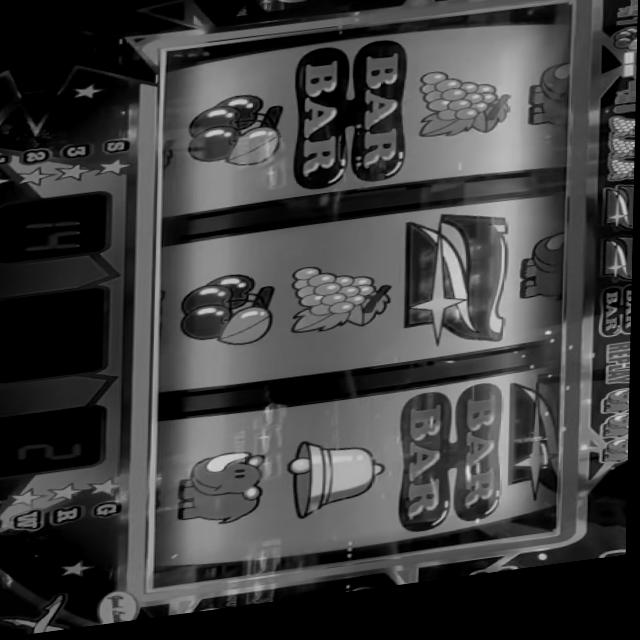bar: (299, 47, 410, 201), (397, 395, 507, 548), (599, 302, 634, 356)
bell: (288, 442, 387, 532)
cherry: (178, 275, 282, 360), (187, 97, 287, 181), (613, 43, 638, 70)
display: (147, 13, 581, 598)
elephant: (177, 454, 269, 536), (519, 247, 569, 322), (526, 75, 573, 148), (599, 405, 632, 433), (601, 429, 630, 457), (601, 457, 629, 482)
grape: (289, 264, 398, 346), (413, 72, 514, 158), (602, 131, 636, 158), (605, 154, 636, 179), (602, 177, 636, 198)
z: (401, 221, 512, 366), (512, 386, 566, 520), (601, 252, 634, 301), (603, 201, 634, 249)
